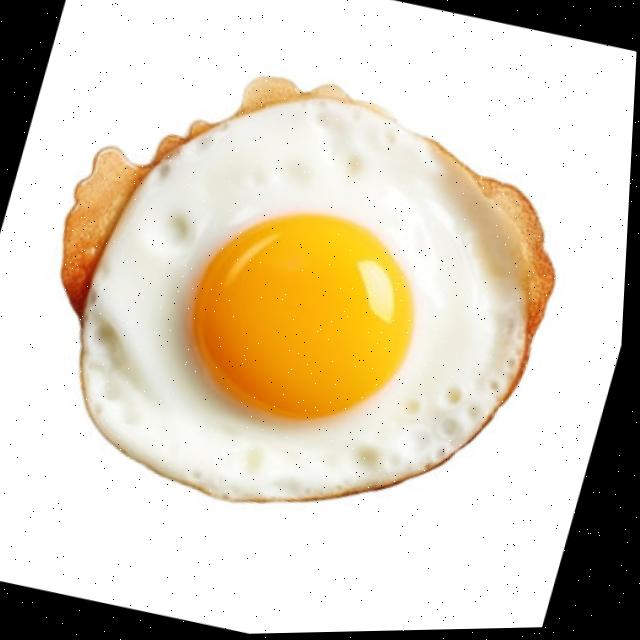Egg: (65, 78, 556, 500)
